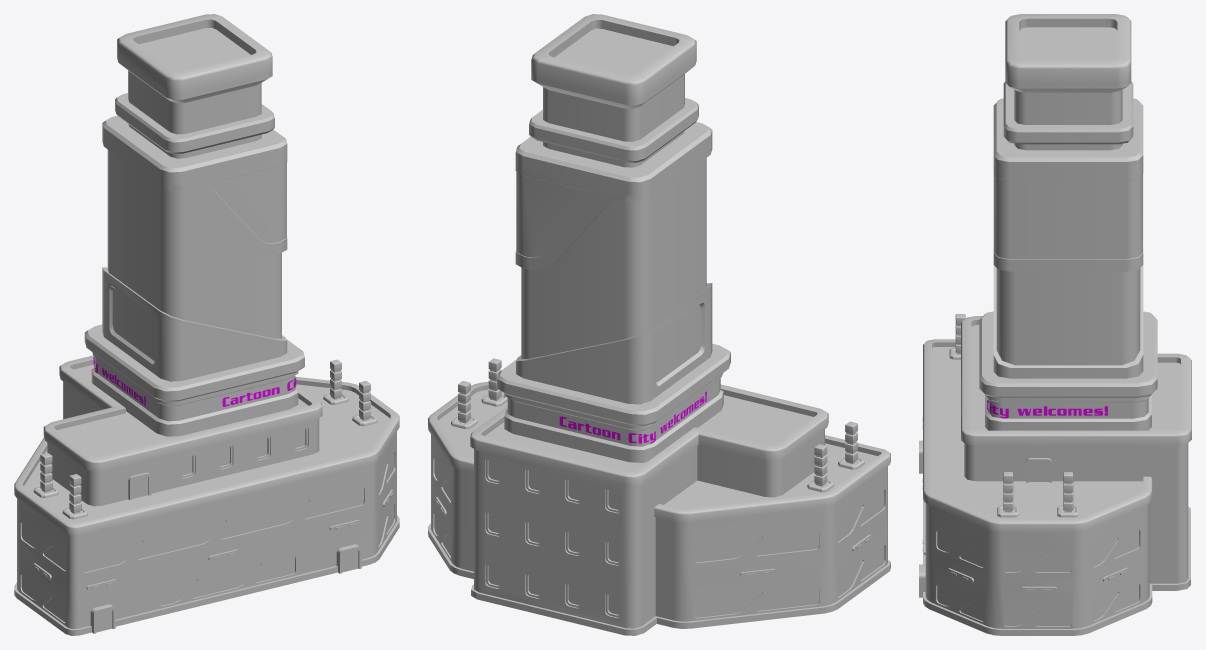
Rendered from Futuristic_Building_NeonTower.fbx.
3 renders of one model, left to right at view 1: azimuth 30°, elevation 25°; view 2: azimuth 150°, elevation 25°; view 3: azimuth 270°, elevation 25°, orthographic. The views are drawn at different scales.
Visible parts, largest first — view 1: Futuristic_Building_NeonTower; view 2: Futuristic_Building_NeonTower; view 3: Futuristic_Building_NeonTower.
Part boxes in pixels (x1=…): Futuristic_Building_NeonTower: x1=14, y1=14, x2=399, y2=635; Futuristic_Building_NeonTower: x1=428, y1=14, x2=890, y2=635; Futuristic_Building_NeonTower: x1=919, y1=14, x2=1191, y2=635.
Size of the model in its own units: 3364 by 2106 by 4347.
